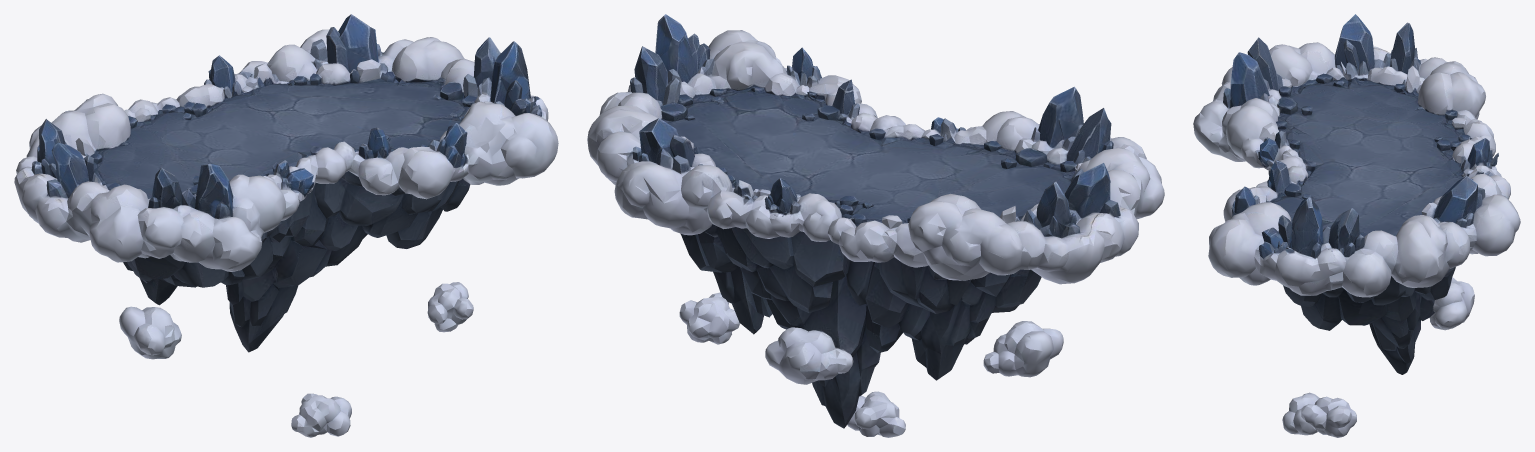
File: isle-storm.glb
The picture shows the model from 3 angles, left to right: view 1: azimuth 30°, elevation 25°; view 2: azimuth 150°, elevation 25°; view 3: azimuth 270°, elevation 25°; orthographic projection. The views are drawn at different scales.
Size of the model in its own units: 1.9 by 1.29 by 1.2.
1 material, 1 textured.
